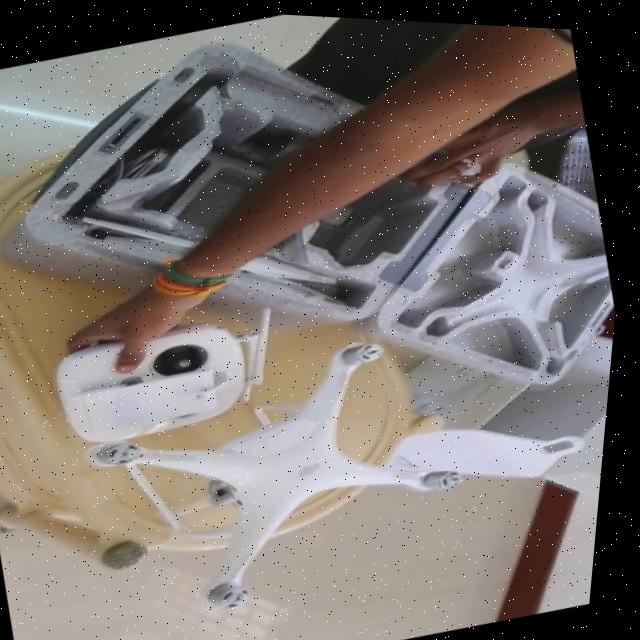drones: (70, 295, 520, 640)
